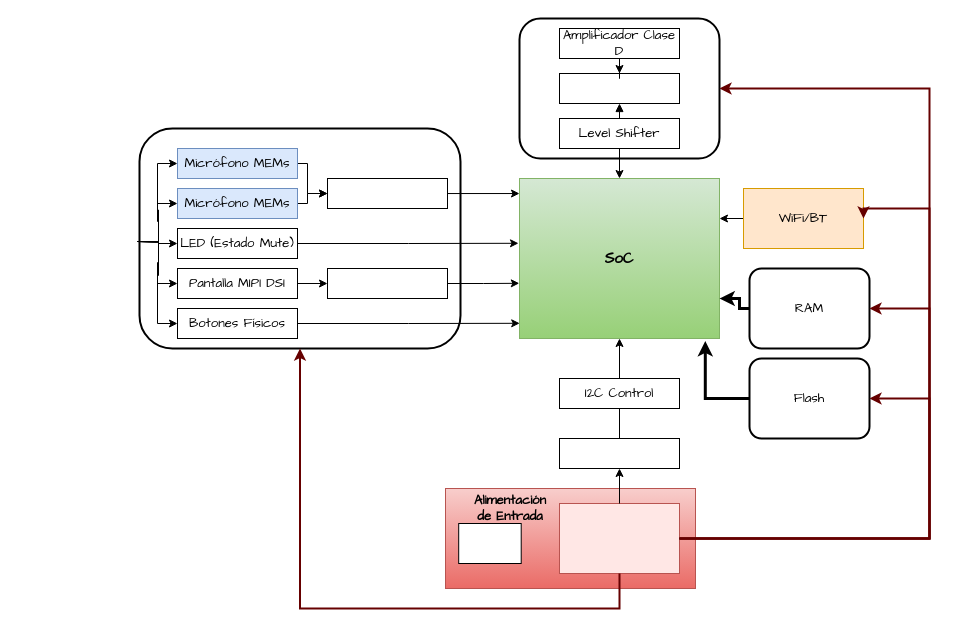
Some shapes in this 955 by 634 pixel diagram are drawn without their labels. Each missing label, with the box of its shape:
Controlador I2C: (326, 178, 448, 208)
Controlador I2S (Reproducción): (558, 72, 680, 104)
Controlador Táctil: (326, 268, 448, 298)
Iluminación RGB: (558, 438, 680, 468)
Plug 12V: (458, 522, 521, 564)
Potencia: Step Down y Reguladores: (558, 502, 680, 574)
